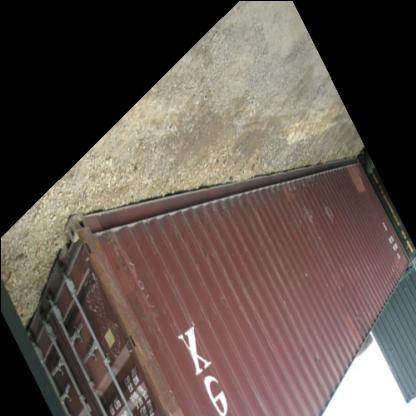Damage: (80, 235, 152, 356), (188, 197, 243, 228), (291, 204, 313, 238), (318, 194, 338, 228), (264, 180, 319, 192), (210, 290, 234, 312), (304, 354, 326, 374), (322, 285, 348, 301)
